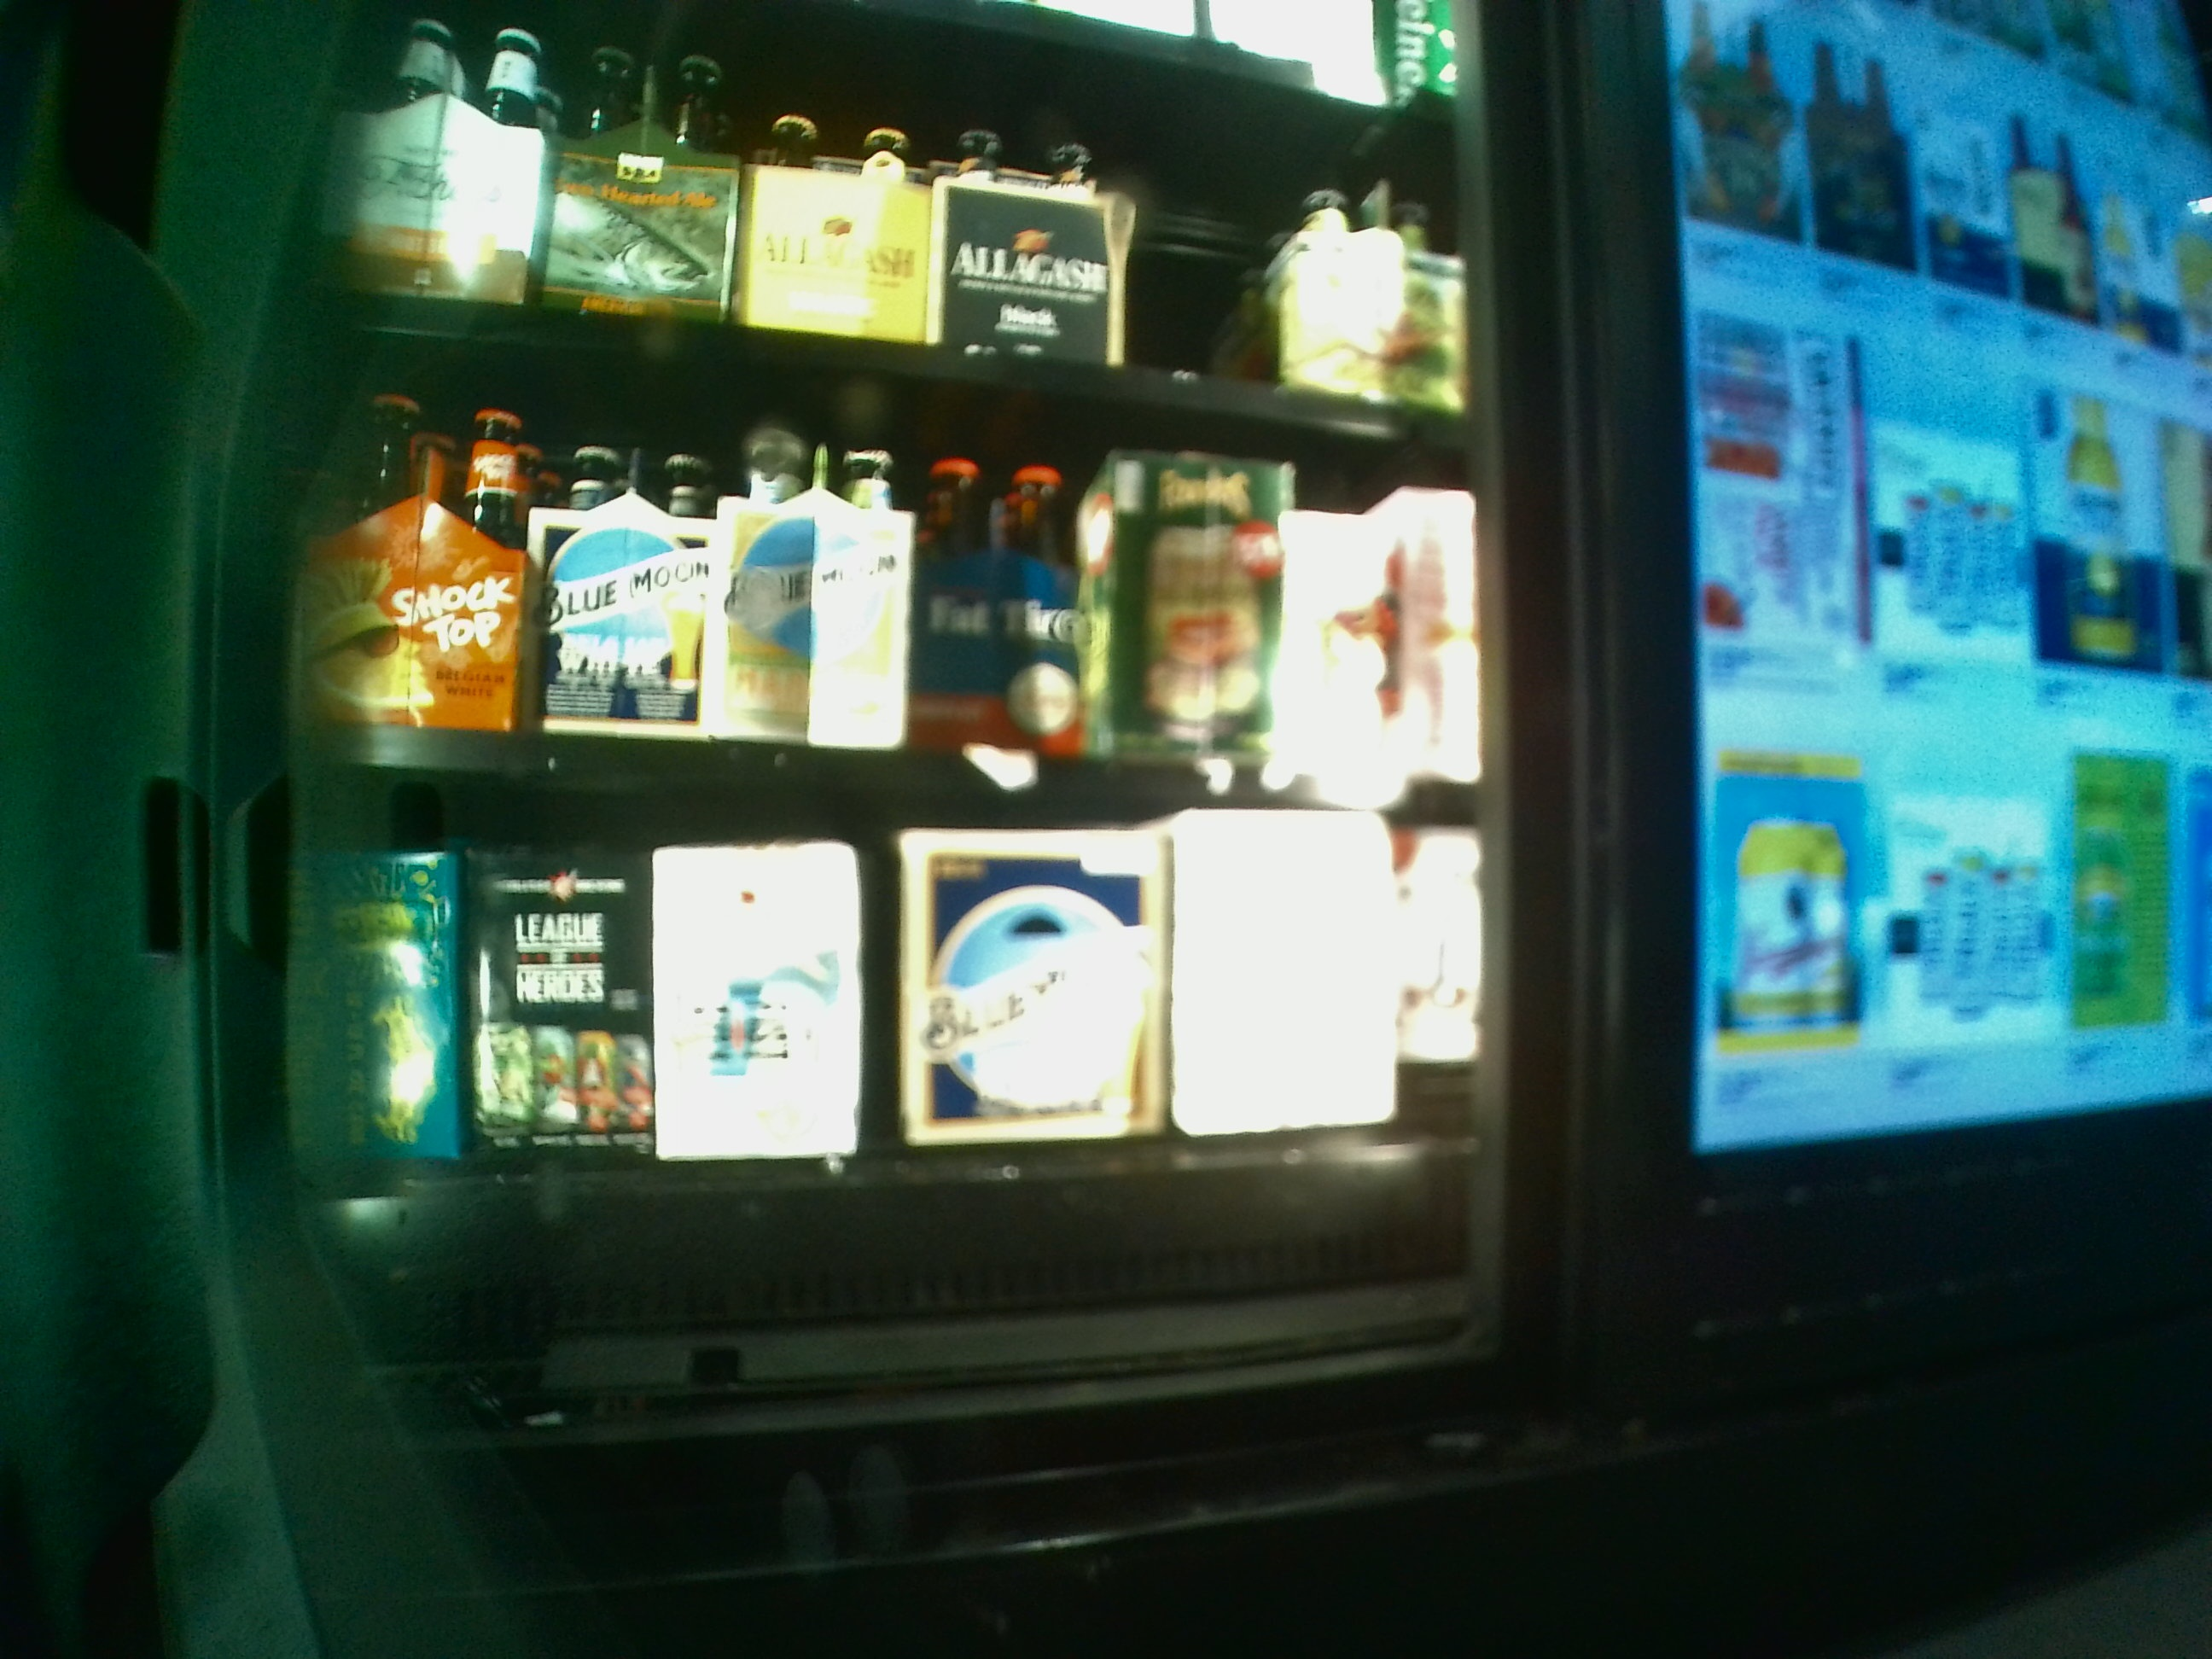shelf: (291, 817, 1486, 1345), (294, 331, 1479, 803)
